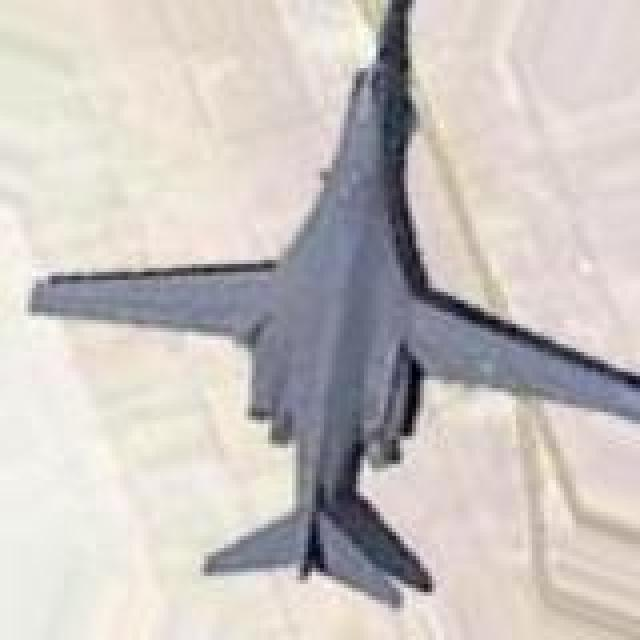B-1_TopDown: (24, 0, 636, 616)
